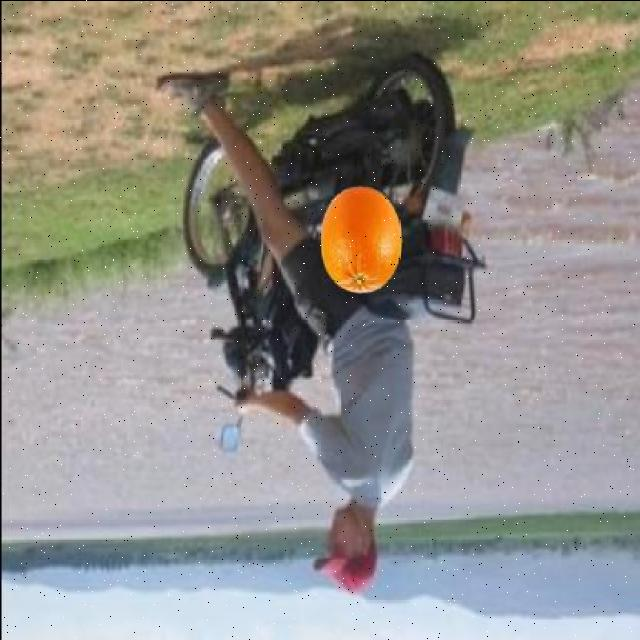Orange: (317, 184, 403, 296)
